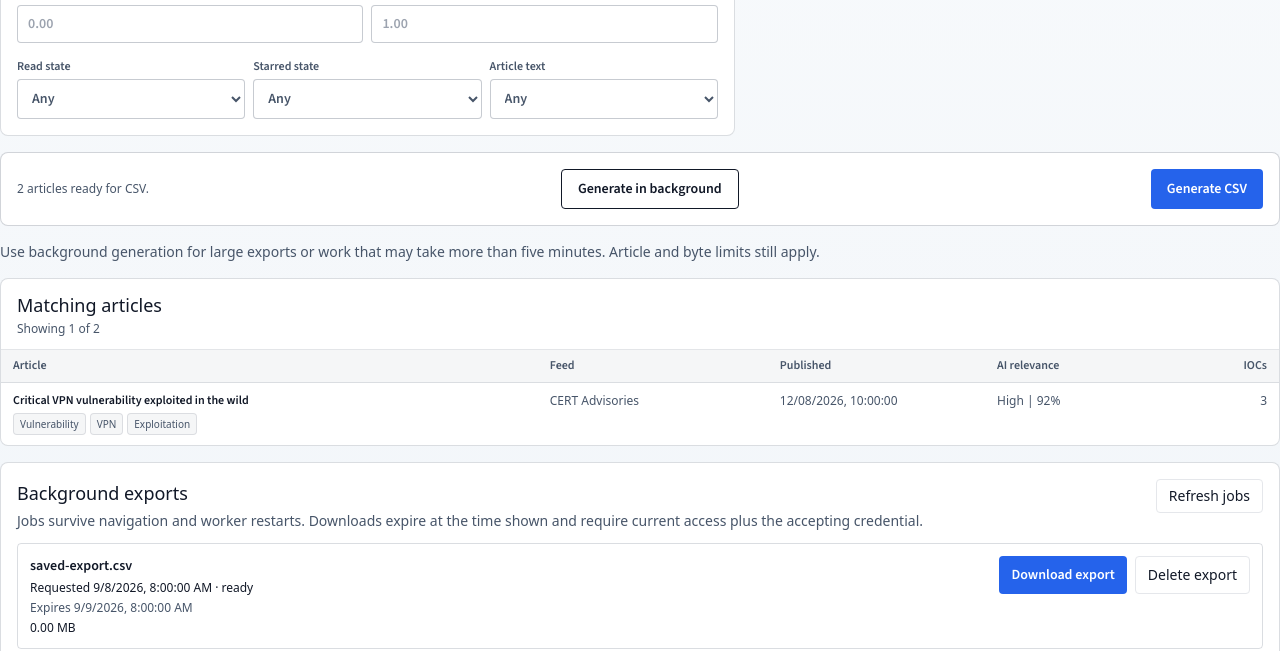
Scenario: ExportPage › downloads a ready background artifact only on request and can delete it
(page scrolled)
Click the button "Download export": click(1063, 574) [999,556,1127,594]
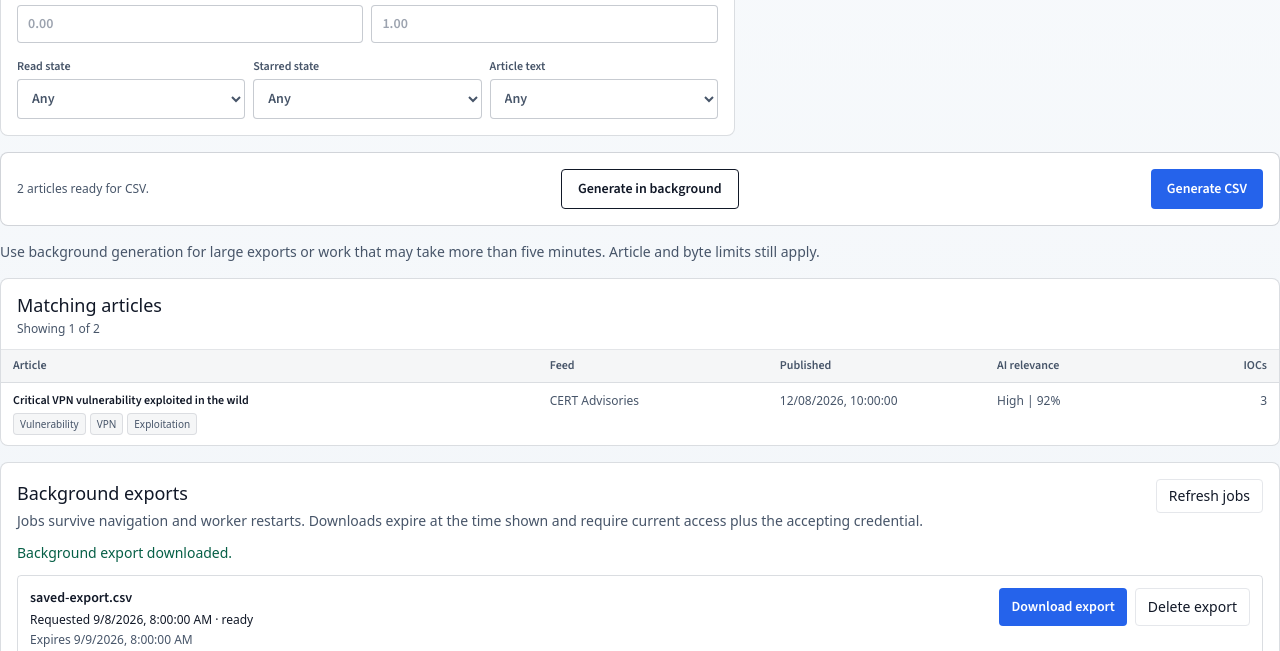
Click the button "Delete export": click(1192, 606) [1135,588,1250,626]
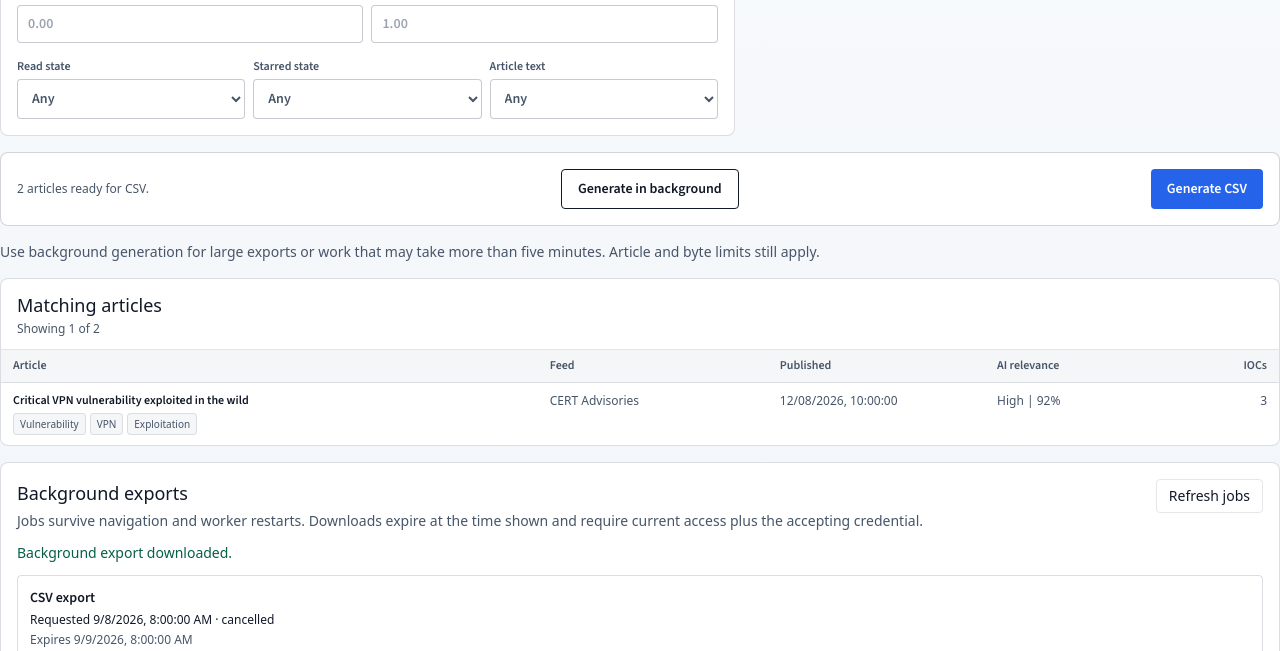
Now the text "cancelled" is shown, box [222,610,274,628]
